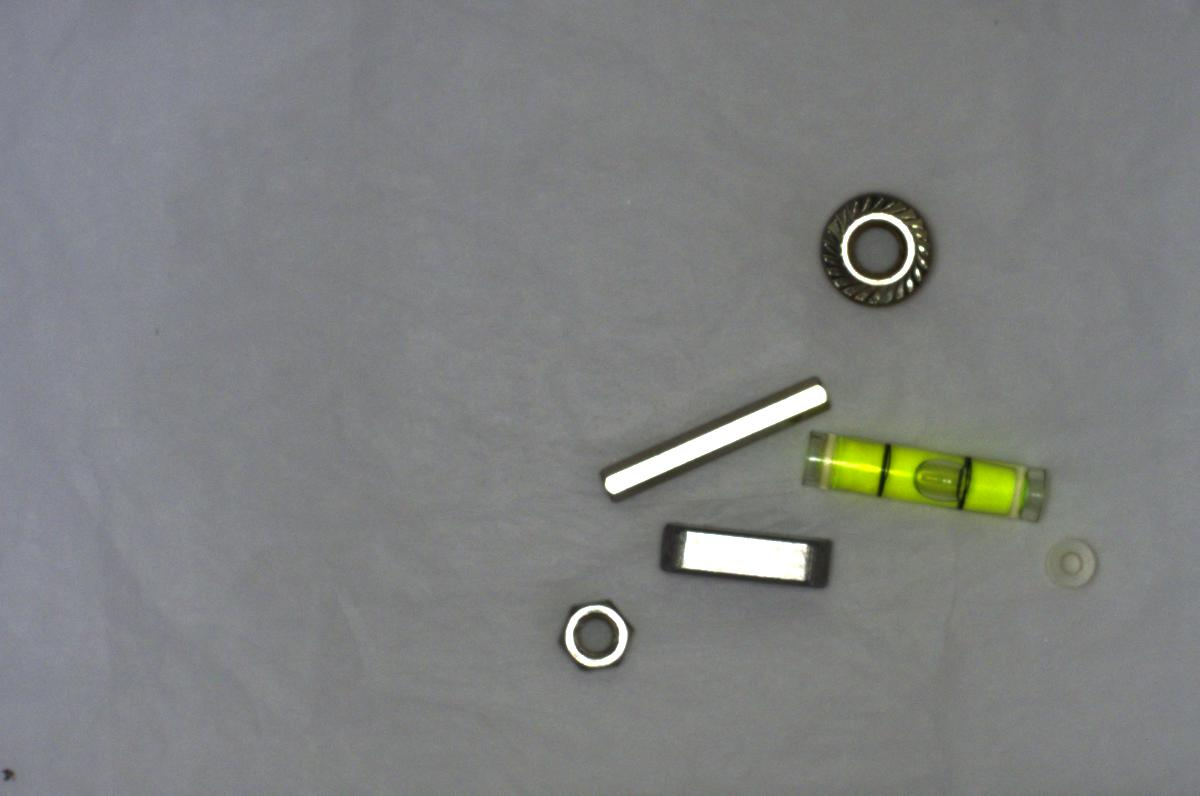Double hexagonal column: (589, 367, 833, 515)
Flange nut: (812, 173, 950, 312)
Hexagon nut: (543, 586, 635, 673)
Horizontal bubble: (800, 412, 1065, 531)
Keybar: (642, 514, 838, 600)
Plastic cushion pillar: (1032, 532, 1106, 608)
